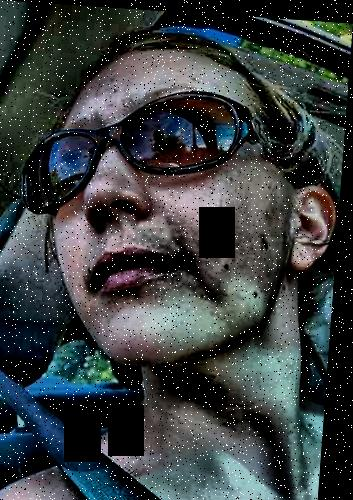seatbelt: (0, 331, 171, 487)
